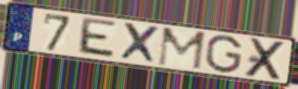7: (42, 12, 73, 52)
E: (75, 16, 119, 61)
G: (204, 34, 244, 75)
M: (155, 26, 208, 72)
X: (242, 37, 289, 82), (118, 21, 162, 66)
